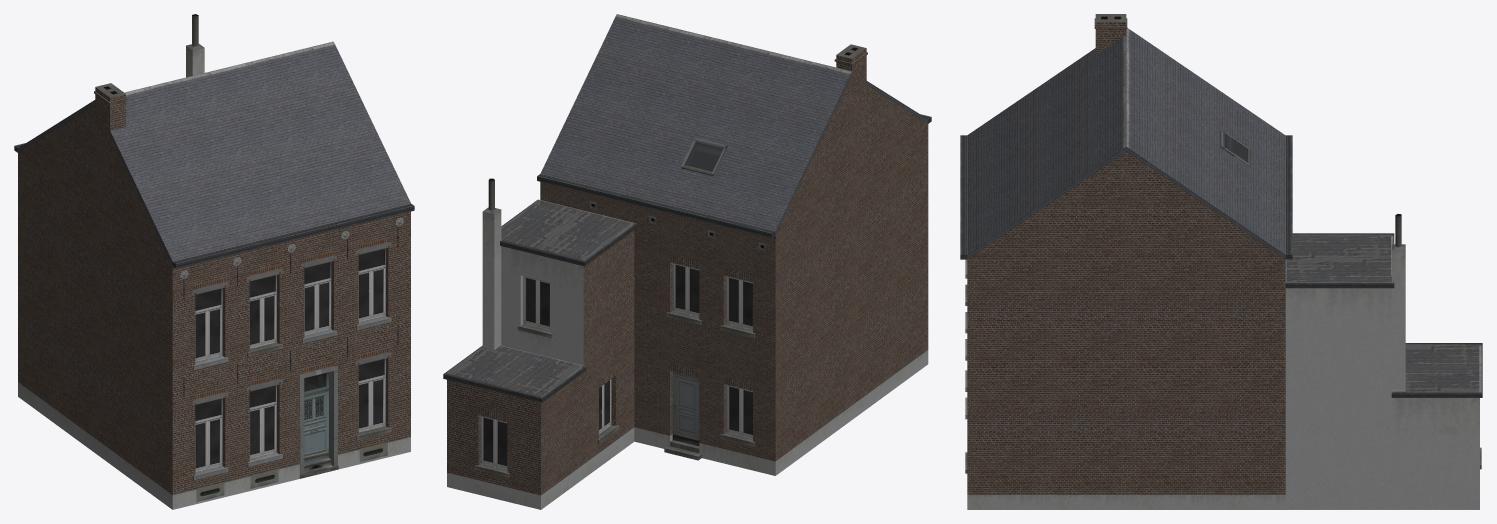
The model's file is nivelles_house_4_belgium.glb.
3 views of the same model, side by side, from view 1: azimuth 30°, elevation 25°; view 2: azimuth 150°, elevation 25°; view 3: azimuth 270°, elevation 25° (orthographic). The views are drawn at different scales.
Visible parts, largest first — view 1: 1_main_0; view 2: 1_main_0; view 3: 1_main_0.
Part boxes in pixels (bbox=[...]): 1_main_0: bbox=[14, 14, 414, 509]; 1_main_0: bbox=[443, 14, 931, 509]; 1_main_0: bbox=[960, 14, 1482, 509].
Bounding box in the file's own units: 8.11 × 11.75 × 14.78.
Materials: 1 (1 with a texture image).
